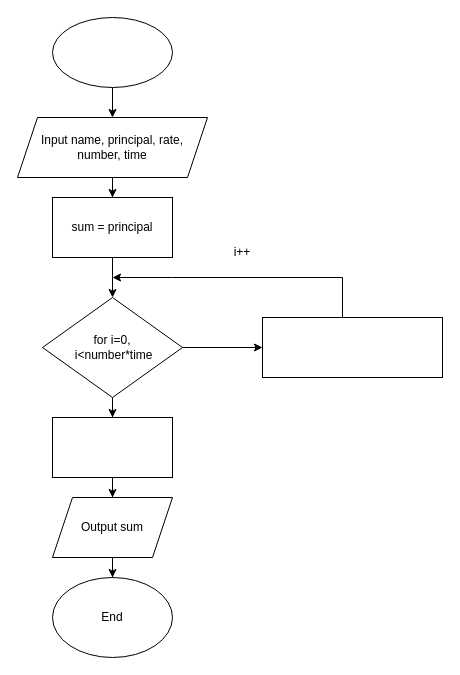
Image size: 460x675. Some labels were removed from this diagram. Here are the shapes that lost their labels. From the top down, the centre of each, then its label:
At (112,52): "Start".
At (352,347): "sum=sum*(1+rate/100)".
At (112,447): "sum = sum - principal".
